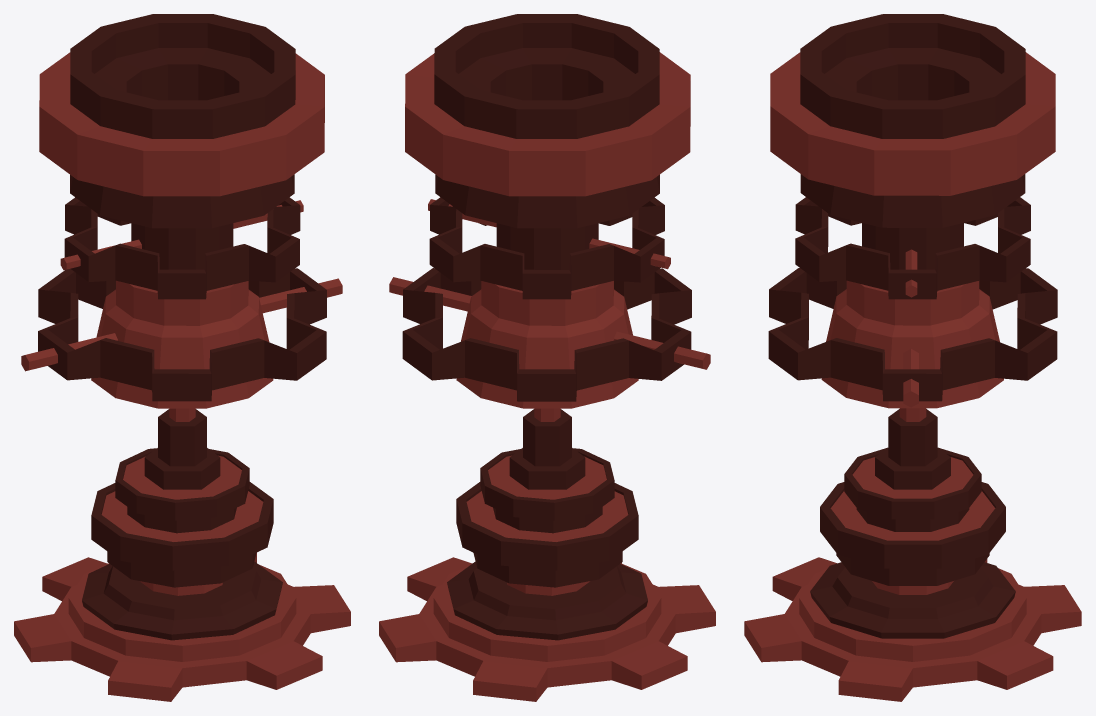
The model's file is Upwards_3.glb.
3 renders of one model, left to right at view 1: azimuth 30°, elevation 25°; view 2: azimuth 150°, elevation 25°; view 3: azimuth 270°, elevation 25°, orthographic.
Parts seen in each view (by area): view 1: Upwards_3_Gun, Upwards_3_Base, Upwards_3_Mid; view 2: Upwards_3_Gun, Upwards_3_Base, Upwards_3_Mid; view 3: Upwards_3_Gun, Upwards_3_Base, Upwards_3_Mid.
Boxes of the visible parts, <box> form: Upwards_3_Gun: <box>21,14,342,408</box>; Upwards_3_Base: <box>14,448,350,701</box>; Upwards_3_Mid: <box>82,408,282,640</box>; Upwards_3_Gun: <box>389,14,710,408</box>; Upwards_3_Base: <box>379,448,715,701</box>; Upwards_3_Mid: <box>447,408,647,640</box>; Upwards_3_Gun: <box>768,14,1057,408</box>; Upwards_3_Base: <box>744,447,1081,701</box>; Upwards_3_Mid: <box>810,408,1015,638</box>.
Size of the model in its own units: 0.9908 by 1.73 by 0.9224.
